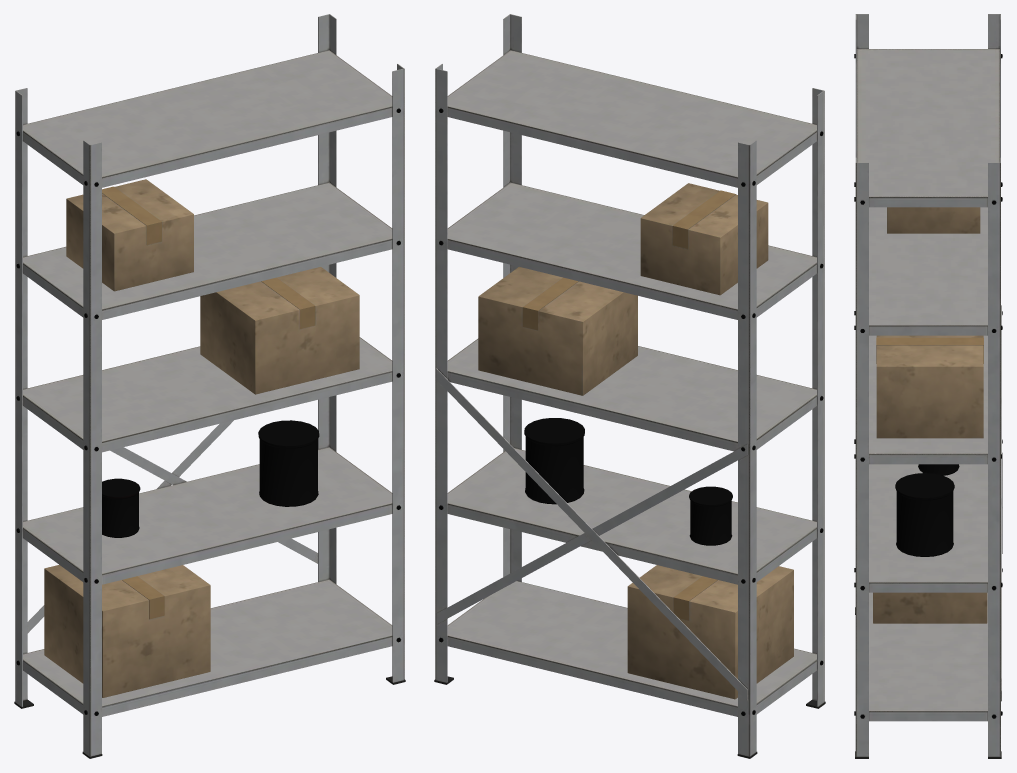
File: estante_metal.glb
The picture shows the model from 3 angles, left to right: view 1: azimuth 30°, elevation 25°; view 2: azimuth 150°, elevation 25°; view 3: azimuth 270°, elevation 25°; orthographic projection. The views are drawn at different scales.
Visible parts, largest first — view 1: estante, carga; view 2: estante, carga; view 3: estante, carga.
Part boxes in pixels (x1=…): estante: x1=14, y1=14, x2=405, y2=758; carga: x1=44, y1=179, x2=359, y2=697; estante: x1=434, y1=14, x2=825, y2=758; carga: x1=478, y1=183, x2=793, y2=699; estante: x1=854, y1=14, x2=1002, y2=758; carga: x1=873, y1=207, x2=987, y2=623.
Size of the model in its own units: 1.03 by 1.9 by 0.4295.
2 materials, 2 textured.
